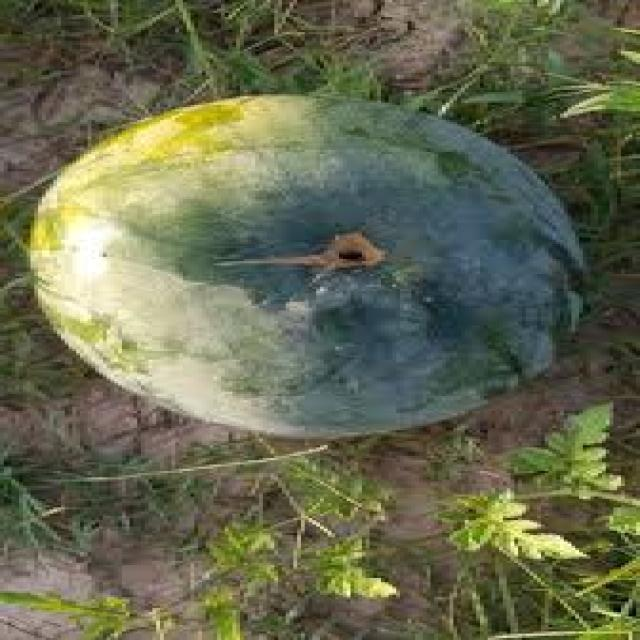watermelon: (23, 92, 594, 439)
